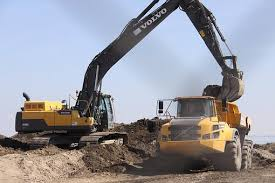excavator: (14, 1, 250, 143)
truck: (154, 95, 254, 172)
